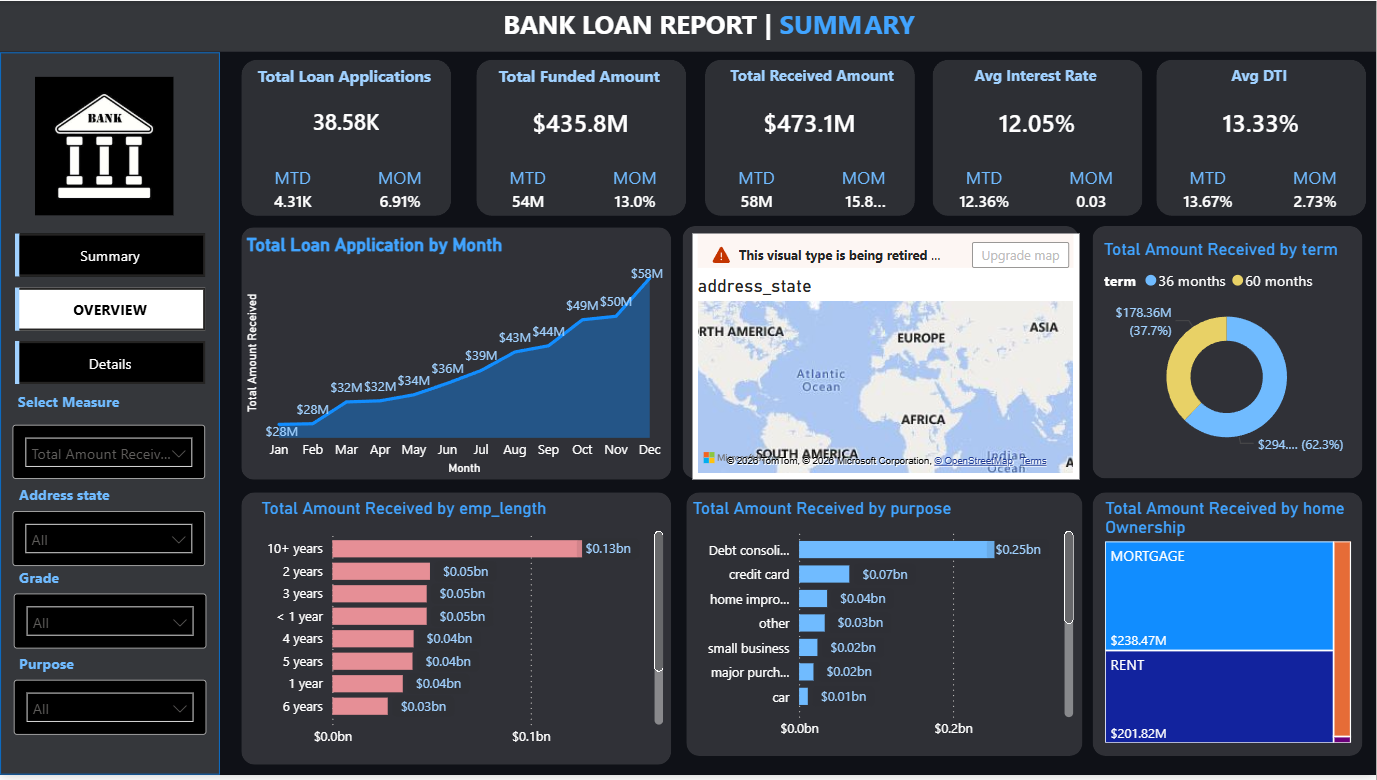

What the dashboard file says about the page in this screenshot:
{"tool":"powerbi","page":{"name":"OVERVIEW","canvas":[1280,720],"ordinal":1},"visuals":[{"type":"shape","box":[0,47.7,204.7,672.1],"z":0},{"type":"shape","box":[224.4,54.7,195.3,145.3],"z":0,"group":"g1"},{"type":"shape","box":[443,54.7,195.3,145.3],"z":0,"group":"g2"},{"type":"shape","box":[655.8,54.7,195.3,145.3],"z":0,"group":"g5"},{"type":"shape","box":[867.4,54.7,195.3,145.3],"z":0,"group":"g3"},{"type":"shape","box":[1075.6,54.7,195.3,145.3],"z":0,"group":"g4"},{"type":"shape","box":[0,0,1280,47.5],"z":1000},{"type":"textbox","box":[375,0,570,48.8],"z":2000},{"type":"group","id":"g1","title":"Group 1","box":[224.4,54.7,195.3,155.8],"z":3000},{"type":"group","id":"g2","title":"Group 1","box":[443,54.7,195.3,155.8],"z":4000},{"type":"cardVisual","fields":{"Data":["bank_loan_db financial_loan.Total_loan_application"]},"box":[240.7,85.1,162.8,52.8],"z":4000,"group":"g1"},{"type":"cardVisual","fields":{"Data":["bank_loan_db financial_loan.Total Fundede Amountn"]},"box":[459.3,85.1,162.8,52.8],"z":4000,"group":"g2"},{"type":"cardVisual","fields":{"Data":["bank_loan_db financial_loan.Total Amount Received"]},"box":[672.1,85.1,162.8,52.8],"z":4000,"group":"g5"},{"type":"cardVisual","fields":{"Data":["bank_loan_db financial_loan.Avg Interest Rate"]},"box":[883.7,85.1,162.8,52.8],"z":4000,"group":"g3"},{"type":"cardVisual","fields":{"Data":["bank_loan_db financial_loan.Total DTI"]},"box":[1091.9,85.1,162.8,52.8],"z":4000,"group":"g4"},{"type":"textbox","box":[224.4,54.7,191.6,30.4],"z":5000,"group":"g1"},{"type":"textbox","box":[443,54.7,191.6,30.4],"z":5000,"group":"g2"},{"type":"textbox","box":[655.8,54.7,191.6,30.4],"z":5000,"group":"g5"},{"type":"group","id":"g3","title":"Group 1","box":[867.4,54.7,195.3,155.8],"z":5000},{"type":"textbox","box":[867.4,54.7,191.6,30.4],"z":5000,"group":"g3"},{"type":"textbox","box":[1075.6,54.7,191.6,30.4],"z":5000,"group":"g4"},{"type":"group","id":"g4","title":"Group 1","box":[1075.6,54.7,195.3,155.8],"z":6000},{"type":"cardVisual","fields":{"Data":["bank_loan_db financial_loan.MTD"]},"box":[224.4,137.9,96.4,72.6],"z":6000,"group":"g1"},{"type":"cardVisual","fields":{"Data":["bank_loan_db financial_loan.Funded MTD"]},"box":[443,137.9,96.4,72.6],"z":6000,"group":"g2"},{"type":"cardVisual","fields":{"Data":["bank_loan_db financial_loan.Received MTD"]},"box":[655.8,137.9,96.4,72.6],"z":6000,"group":"g5"},{"type":"cardVisual","fields":{"Data":["bank_loan_db financial_loan.Int MTD"]},"box":[867.4,137.9,96.4,72.6],"z":6000,"group":"g3"},{"type":"cardVisual","fields":{"Data":["bank_loan_db financial_loan.DTI MTD"]},"box":[1075.6,137.9,96.4,72.6],"z":6000,"group":"g4"},{"type":"group","id":"g5","title":"Group 1","box":[655.8,54.7,195.3,155.8],"z":7000},{"type":"cardVisual","fields":{"Data":["bank_loan_db financial_loan.MOM"]},"box":[325.8,137.9,93.9,72.6],"z":7000,"group":"g1"},{"type":"cardVisual","fields":{"Data":["bank_loan_db financial_loan.Funded MoM"]},"box":[544.4,137.9,93.9,72.6],"z":7000,"group":"g2"},{"type":"cardVisual","fields":{"Data":["bank_loan_db financial_loan.Received MOM"]},"box":[757.2,137.9,93.9,72.6],"z":7000,"group":"g5"},{"type":"cardVisual","fields":{"Data":["bank_loan_db financial_loan.INT MOM"]},"box":[968.8,137.9,93.9,72.6],"z":7000,"group":"g3"},{"type":"cardVisual","fields":{"Data":["bank_loan_db financial_loan.DTI MOM"]},"box":[1177,137.9,93.9,72.6],"z":7000,"group":"g4"},{"type":"slicer","fields":{"Values":["bank_loan_db financial_loan.address_state"]},"box":[11.6,474.4,179.1,51.2],"z":8000},{"type":"slicer","fields":{"Values":["bank_loan_db financial_loan.purpose"]},"box":[12.6,631.2,179.1,51.2],"z":9000},{"type":"slicer","fields":{"Values":["bank_loan_db financial_loan.grade"]},"box":[12.6,550.9,179.1,51.2],"z":10000},{"type":"textbox","box":[12.6,521.9,154.7,29.1],"z":11000},{"type":"textbox","box":[12.6,602.1,148.8,29.1],"z":12000},{"type":"textbox","box":[12.6,445.1,118.6,29.1],"z":13000},{"type":"shape","box":[224.4,210.5,400,234.9],"z":14000},{"type":"lineChart","title":"Total Loan Application by Month","fields":{"Y":["bank_loan_db financial_loan.Total Amount Received"],"Category":["Date Table.Month"]},"box":[224.4,216.3,397.7,229.1],"z":15000},{"type":"slicer","fields":{"Values":["Select Measure.Select Measure"]},"box":[11.6,394.7,179.1,50],"z":16000},{"type":"textbox","box":[11.6,358.6,148.8,36],"z":17000},{"type":"shape","box":[634.9,209.3,368.6,234.9],"z":18000},{"type":"shape","box":[1016.3,209.3,251.2,234.9],"z":19000},{"type":"donutChart","fields":{"Y":["bank_loan_db financial_loan.Total Amount Received"],"Category":["bank_loan_db financial_loan.term"]},"box":[1022.1,222.1,238.4,208.1],"z":20000},{"type":"shape","box":[224.4,457,400,253.5],"z":21000},{"type":"clusteredBarChart","fields":{"Y":["bank_loan_db financial_loan.Total Amount Received"],"Category":["bank_loan_db financial_loan.emp_length"]},"box":[238.4,462.8,383.7,239.5],"z":22000},{"type":"shape","box":[638.4,457,368.6,245.3],"z":23000},{"type":"clusteredBarChart","fields":{"Y":["bank_loan_db financial_loan.Total Amount Received"],"Category":["bank_loan_db financial_loan.purpose"]},"box":[639.5,462.8,364,232.6],"z":24000},{"type":"shape","box":[1016.3,457,251.2,245.3],"z":25000},{"type":"treemap","fields":{"Values":["bank_loan_db financial_loan.Total Amount Received"],"Group":["bank_loan_db financial_loan.home_ownership"]},"box":[1023.3,462.8,238.4,232.6],"z":26000},{"type":"filledMap","fields":{"Category":["bank_loan_db financial_loan.address_state"]},"box":[644.2,216.3,359.3,227.9],"z":27000},{"type":"image","box":[32.6,69.8,129.1,130.2],"z":28000},{"type":"pageNavigator","box":[14,216.3,177.9,141.9],"z":29000}]}

Visuals, with their boxes on the page's 1280x720 design canvas (x1, y1, x2, y2). These are canvas units, not pixel positions in the 1377x780 screenshot, which may show the page scaled, cropped or inside an application window:
shape: 0 48 205 720
shape: 224 55 420 200
shape: 443 55 638 200
shape: 656 55 851 200
shape: 867 55 1063 200
shape: 1076 55 1271 200
shape: 0 0 1280 48
textbox: 375 0 945 49
"Group 1" group: 224 55 420 210
"Group 1" group: 443 55 638 210
cardVisual - bank_loan_db financial_loan.Total_loan_application: 241 85 404 138
cardVisual - bank_loan_db financial_loan.Total Fundede Amountn: 459 85 622 138
cardVisual - bank_loan_db financial_loan.Total Amount Received: 672 85 835 138
cardVisual - bank_loan_db financial_loan.Avg Interest Rate: 884 85 1046 138
cardVisual - bank_loan_db financial_loan.Total DTI: 1092 85 1255 138
textbox: 224 55 416 85
textbox: 443 55 635 85
textbox: 656 55 847 85
"Group 1" group: 867 55 1063 210
textbox: 867 55 1059 85
textbox: 1076 55 1267 85
"Group 1" group: 1076 55 1271 210
cardVisual - bank_loan_db financial_loan.MTD: 224 138 321 210
cardVisual - bank_loan_db financial_loan.Funded MTD: 443 138 539 210
cardVisual - bank_loan_db financial_loan.Received MTD: 656 138 752 210
cardVisual - bank_loan_db financial_loan.Int MTD: 867 138 964 210
cardVisual - bank_loan_db financial_loan.DTI MTD: 1076 138 1172 210
"Group 1" group: 656 55 851 210
cardVisual - bank_loan_db financial_loan.MOM: 326 138 420 210
cardVisual - bank_loan_db financial_loan.Funded MoM: 544 138 638 210
cardVisual - bank_loan_db financial_loan.Received MOM: 757 138 851 210
cardVisual - bank_loan_db financial_loan.INT MOM: 969 138 1063 210
cardVisual - bank_loan_db financial_loan.DTI MOM: 1177 138 1271 210
slicer - bank_loan_db financial_loan.address_state: 12 474 191 526
slicer - bank_loan_db financial_loan.purpose: 13 631 192 682
slicer - bank_loan_db financial_loan.grade: 13 551 192 602
textbox: 13 522 167 551
textbox: 13 602 161 631
textbox: 13 445 131 474
shape: 224 210 624 445
"Total Loan Application by Month" lineChart: 224 216 622 445
slicer - Select Measure.Select Measure: 12 395 191 445
textbox: 12 359 160 395
shape: 635 209 1004 444
shape: 1016 209 1268 444
donutChart - bank_loan_db financial_loan.Total Amount Received x bank_loan_db financial_loan.term: 1022 222 1260 430
shape: 224 457 624 710
clusteredBarChart - bank_loan_db financial_loan.Total Amount Received x bank_loan_db financial_loan.emp_length: 238 463 622 702
shape: 638 457 1007 702
clusteredBarChart - bank_loan_db financial_loan.Total Amount Received x bank_loan_db financial_loan.purpose: 640 463 1004 695
shape: 1016 457 1268 702
treemap - bank_loan_db financial_loan.Total Amount Received x bank_loan_db financial_loan.home_ownership: 1023 463 1262 695
filledMap - bank_loan_db financial_loan.address_state: 644 216 1004 444
image: 33 70 162 200
pageNavigator: 14 216 192 358
